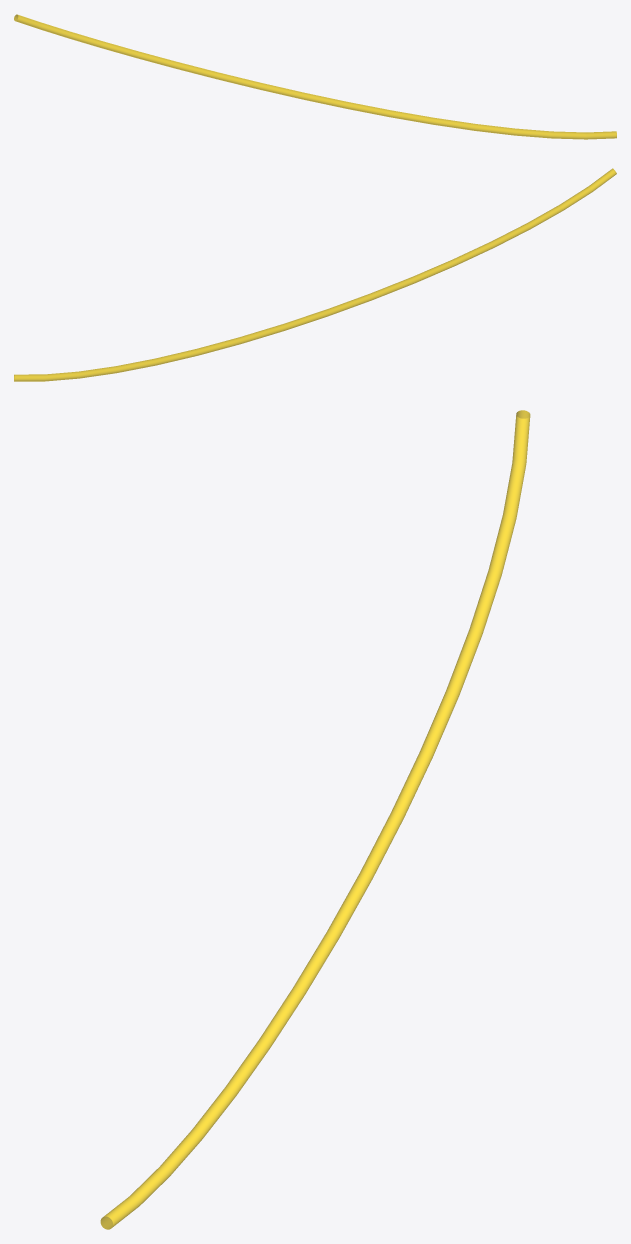
The model's file is Event_40932208_track_29.fbx.
3 views of the same model, one above another, from view 1: azimuth 30°, elevation 25°; view 2: azimuth 210°, elevation 25°; view 3: azimuth 270°, elevation 25° (orthographic). The views are drawn at different scales.
Visible parts, largest first — view 1: Model; view 2: Model; view 3: Model.
Part boxes in pixels (box(x1,y1,x2,y2)): Model: box(14, 14, 616, 139); Model: box(14, 168, 616, 381); Model: box(100, 410, 530, 1229).
Size of the model in its own units: 3.24 by 1.05 by 1.21.
